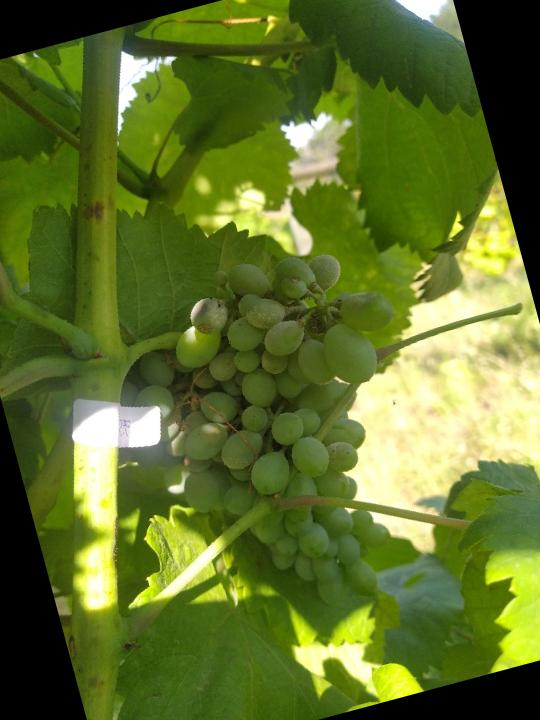grape: (86, 218, 473, 654)
